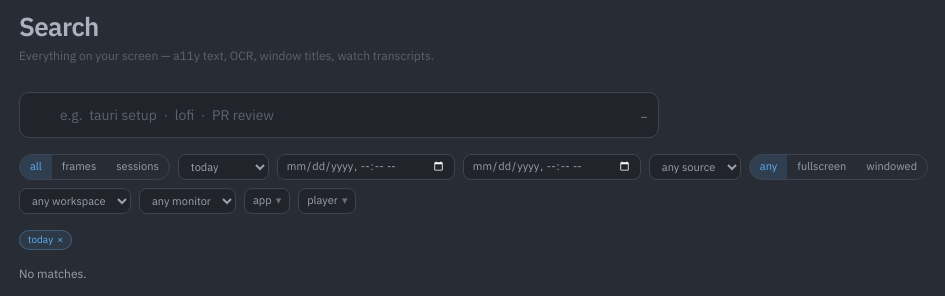
Test: SearchSurface › on: sets a custom day range in the widgets
In the field named "search query": (339,115) top-left (19, 92), bottom-right (659, 138), type "on:2026-06-05"
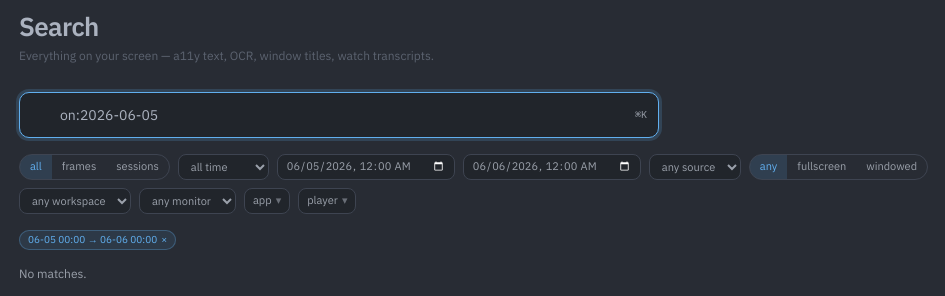
Expected: the button "06-05 00:00 → 06-06 00:00 ×" is shown, top-left (19, 230), bottom-right (176, 250)
Now the field named "start time" holds "2026-06-05T00:00", box top-left (277, 154), bottom-right (455, 180)
Now the field named "end time" holds "2026-06-06T00:00", box top-left (463, 154), bottom-right (641, 180)
